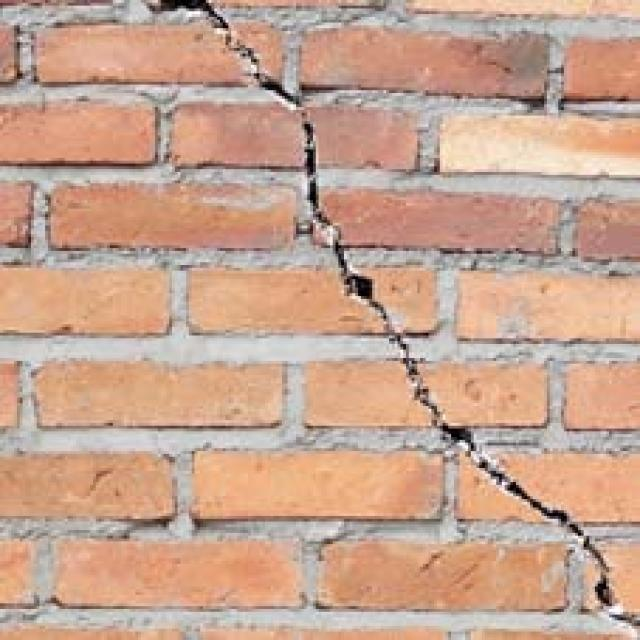Crack: (123, 1, 640, 632)
